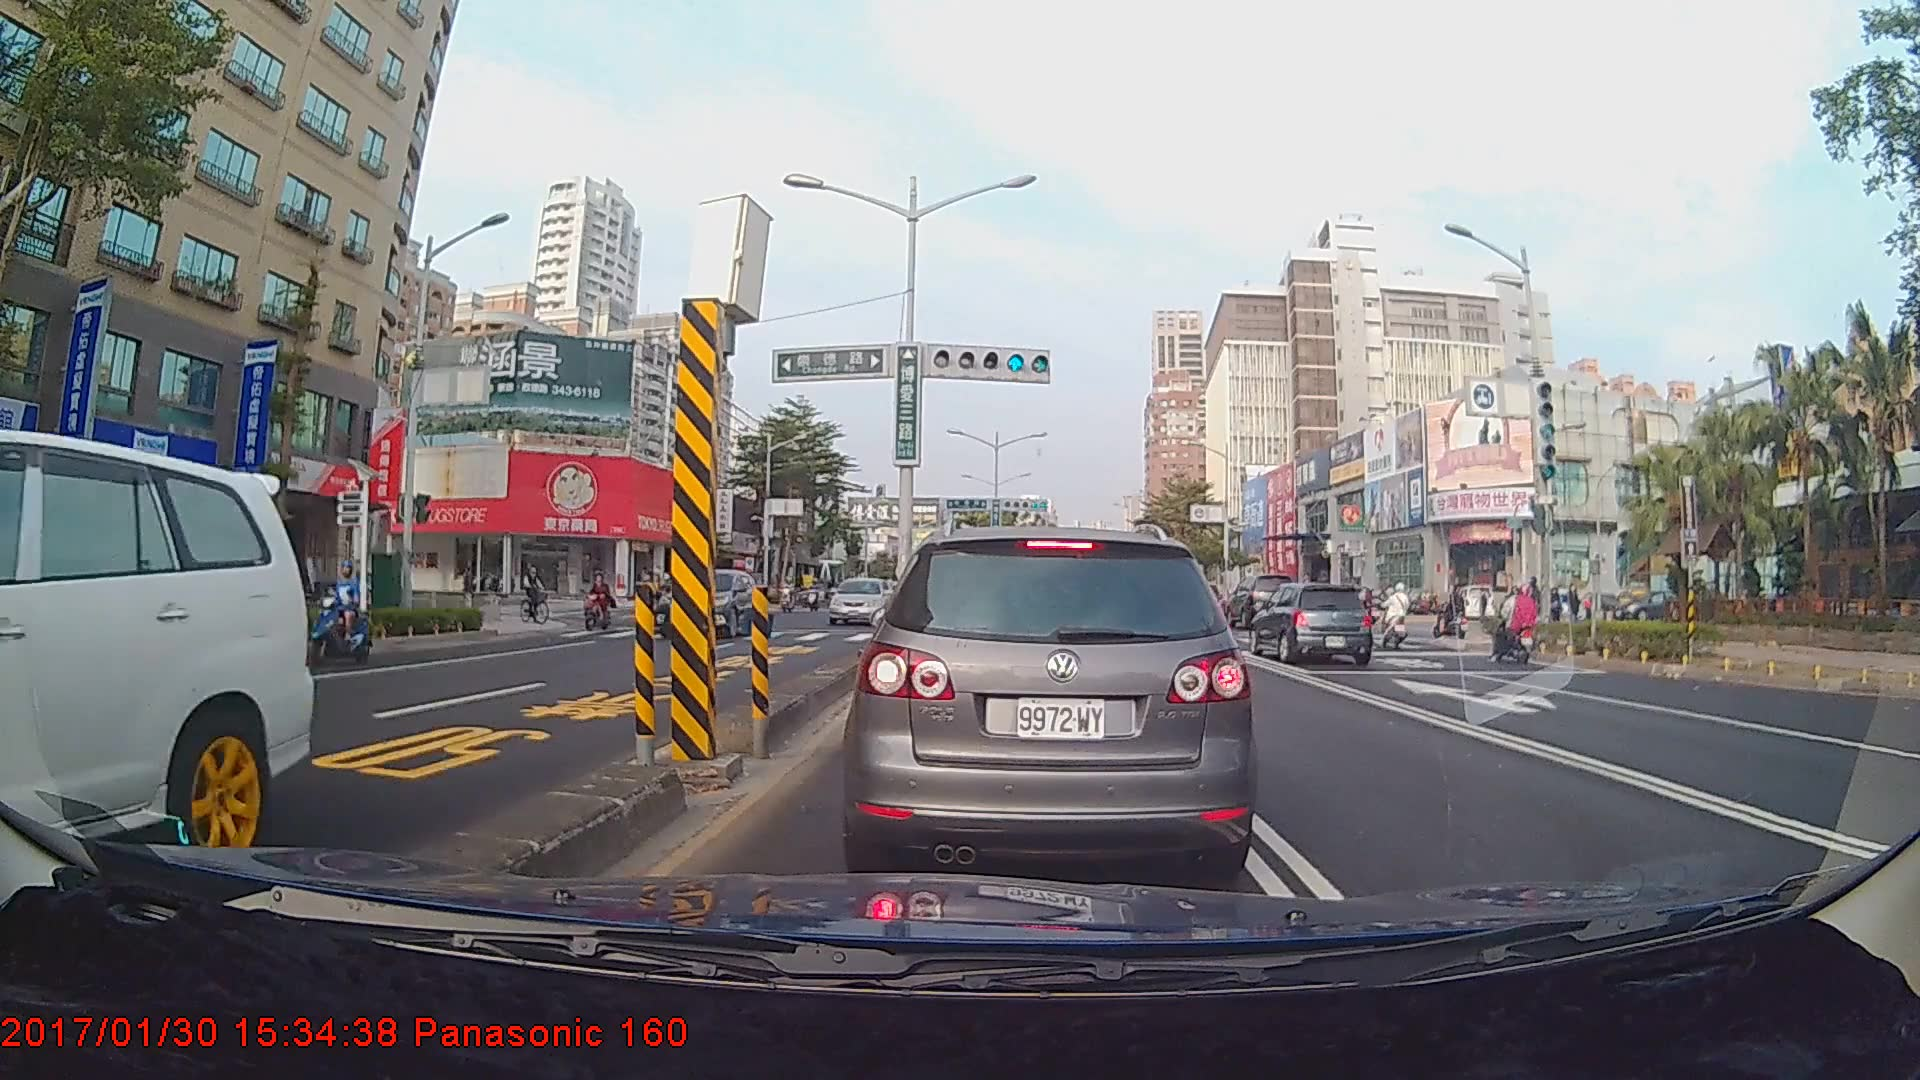rider: (1485, 582, 1548, 668), (577, 567, 621, 638), (518, 559, 561, 629), (1436, 582, 1473, 646)
vehicle: (856, 522, 1249, 881), (0, 425, 314, 873), (1246, 581, 1373, 664), (654, 568, 760, 638), (1223, 571, 1294, 628), (827, 575, 893, 624)
